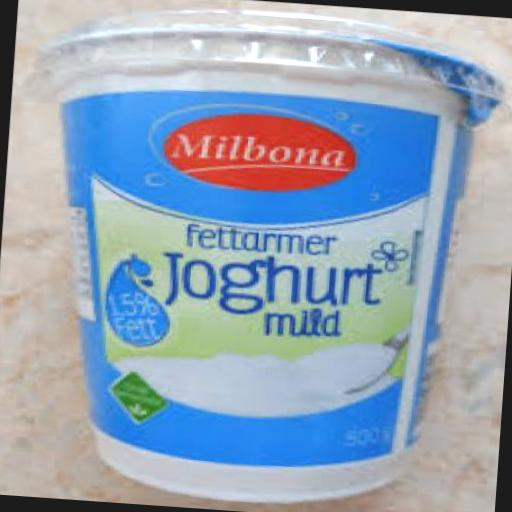plastic: (24, 33, 475, 509), (23, 0, 512, 147)
